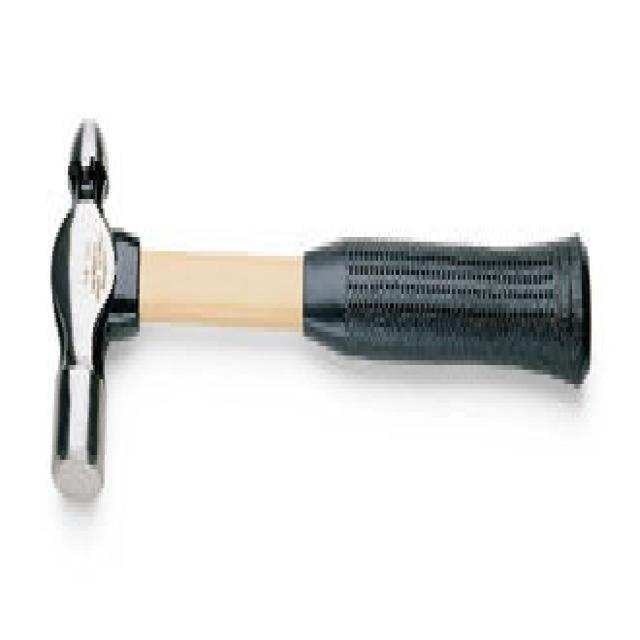hammer: (39, 107, 599, 520)
